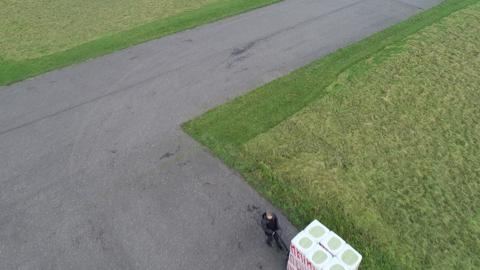RockwoolPallet: (286, 220, 364, 270)
